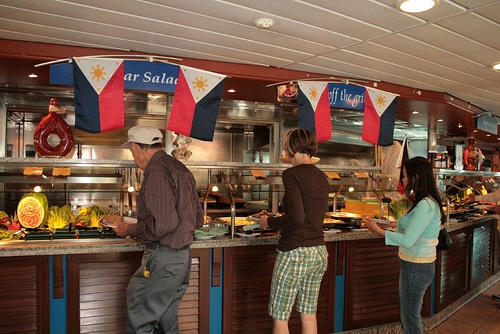head: (127, 127, 164, 172), (398, 155, 435, 200), (285, 130, 319, 167)
person: (101, 125, 201, 334), (362, 146, 443, 334), (266, 126, 327, 334)
